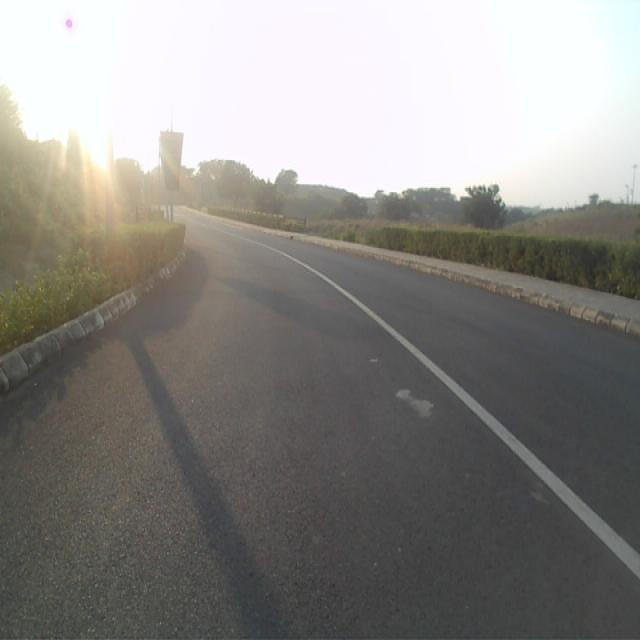lane: (0, 223, 640, 640)
